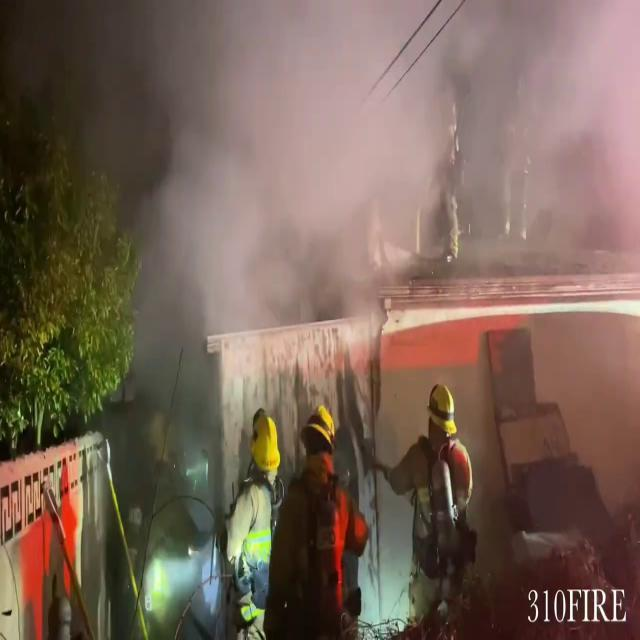Smoke: (46, 0, 450, 393)
